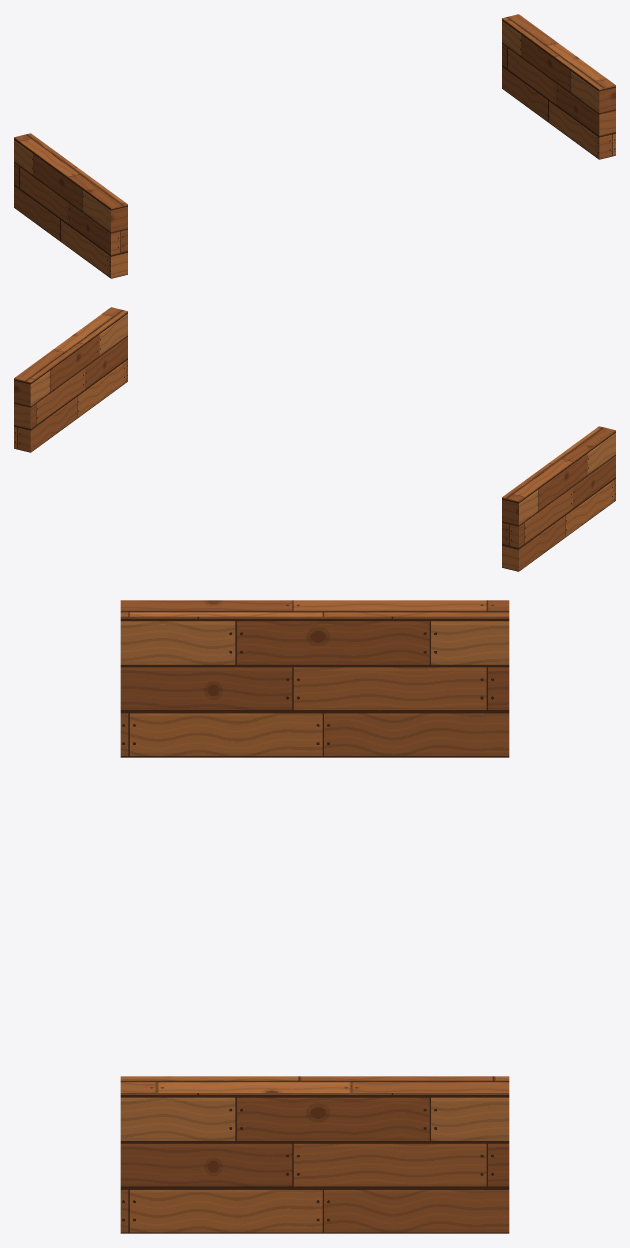
Rendered from TOP_CENTRE.glb.
3 views of the same model, one above another, from view 1: azimuth 30°, elevation 25°; view 2: azimuth 150°, elevation 25°; view 3: azimuth 270°, elevation 25° (orthographic). The views are drawn at different scales.
Parts seen in each view (by area): view 1: TOP_CENTRE; view 2: TOP_CENTRE; view 3: TOP_CENTRE.
Part boxes in pixels (<box>): TOP_CENTRE: <box>14,14,615,278</box>; TOP_CENTRE: <box>14,307,615,571</box>; TOP_CENTRE: <box>120,600,509,1233</box>.
Bounding box in the file's own units: 6 × 0.8 × 2.
1 material, 1 textured.
